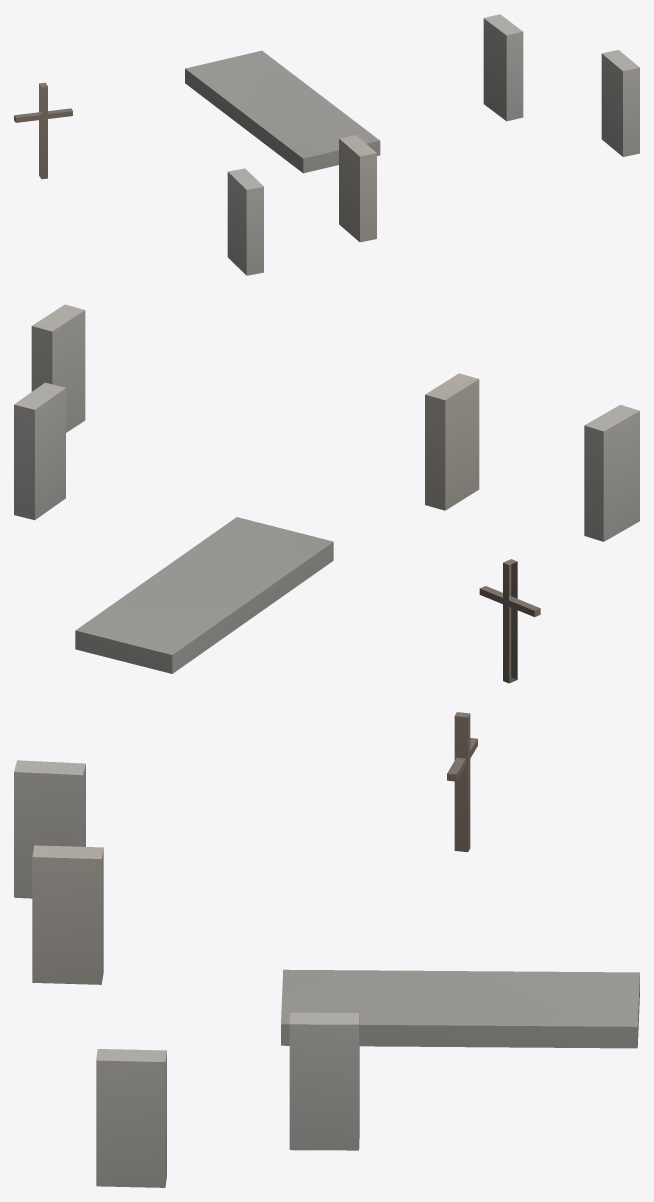
File: graves_0.glb
The picture shows the model from 3 angles, top to bottom: view 1: azimuth 30°, elevation 25°; view 2: azimuth 150°, elevation 25°; view 3: azimuth 270°, elevation 25°; orthographic projection. The views are drawn at different scales.
Visible parts, largest first — view 1: graves_0; view 2: graves_0; view 3: graves_0.
Part boxes in pixels (x1,y1,x2,y2): graves_0: (14, 14, 639, 275); graves_0: (14, 304, 639, 683); graves_0: (14, 712, 639, 1187).
Size of the model in its own units: 4.26 by 0.75 by 3.16.
